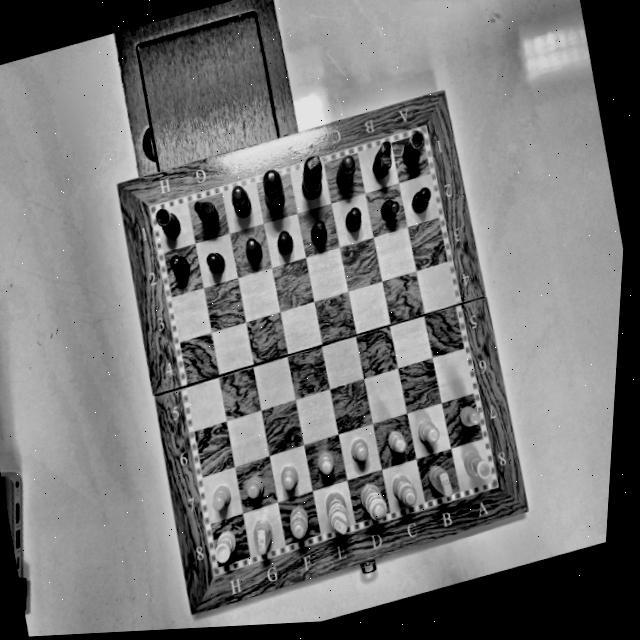black-bishop: (323, 147, 364, 193), (221, 180, 256, 219)
black-king: (285, 149, 336, 210)
black-knight: (360, 133, 403, 183), (186, 190, 226, 233)
black-pawn: (405, 177, 437, 217), (163, 246, 193, 286), (196, 245, 231, 278), (373, 189, 406, 223), (238, 233, 270, 268), (269, 224, 300, 260), (339, 201, 368, 235), (304, 219, 331, 248)
black-queen: (251, 163, 291, 213)
black-rook: (391, 123, 433, 171), (150, 200, 185, 243)
white-bishop: (386, 468, 424, 512), (280, 502, 314, 544)
white-king: (319, 486, 356, 542)
white-knight: (420, 457, 458, 504), (247, 513, 278, 559)
white-pawn: (202, 481, 237, 517), (309, 442, 339, 482), (380, 423, 411, 460), (411, 413, 442, 449), (275, 458, 303, 493), (344, 433, 372, 468), (455, 399, 484, 432), (241, 471, 268, 502)
white-queen: (353, 477, 394, 526)
white-rook: (207, 522, 242, 569), (458, 443, 496, 486)
